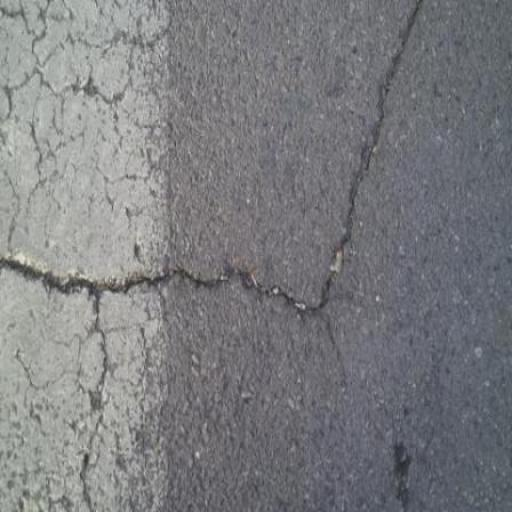spalling: (8, 7, 438, 336), (78, 303, 120, 504)
